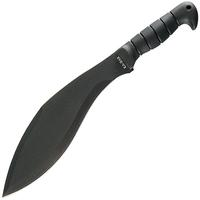knife: (3, 5, 187, 197)
